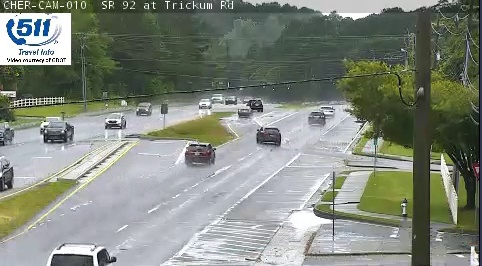car: (186, 142, 214, 163), (259, 126, 280, 145), (308, 110, 324, 125)
